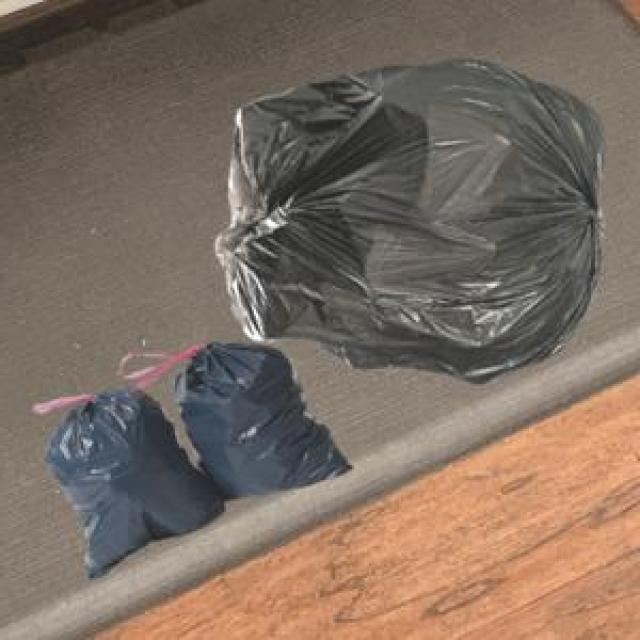Trashbag: (220, 53, 612, 390), (44, 388, 200, 581), (176, 338, 352, 500)
